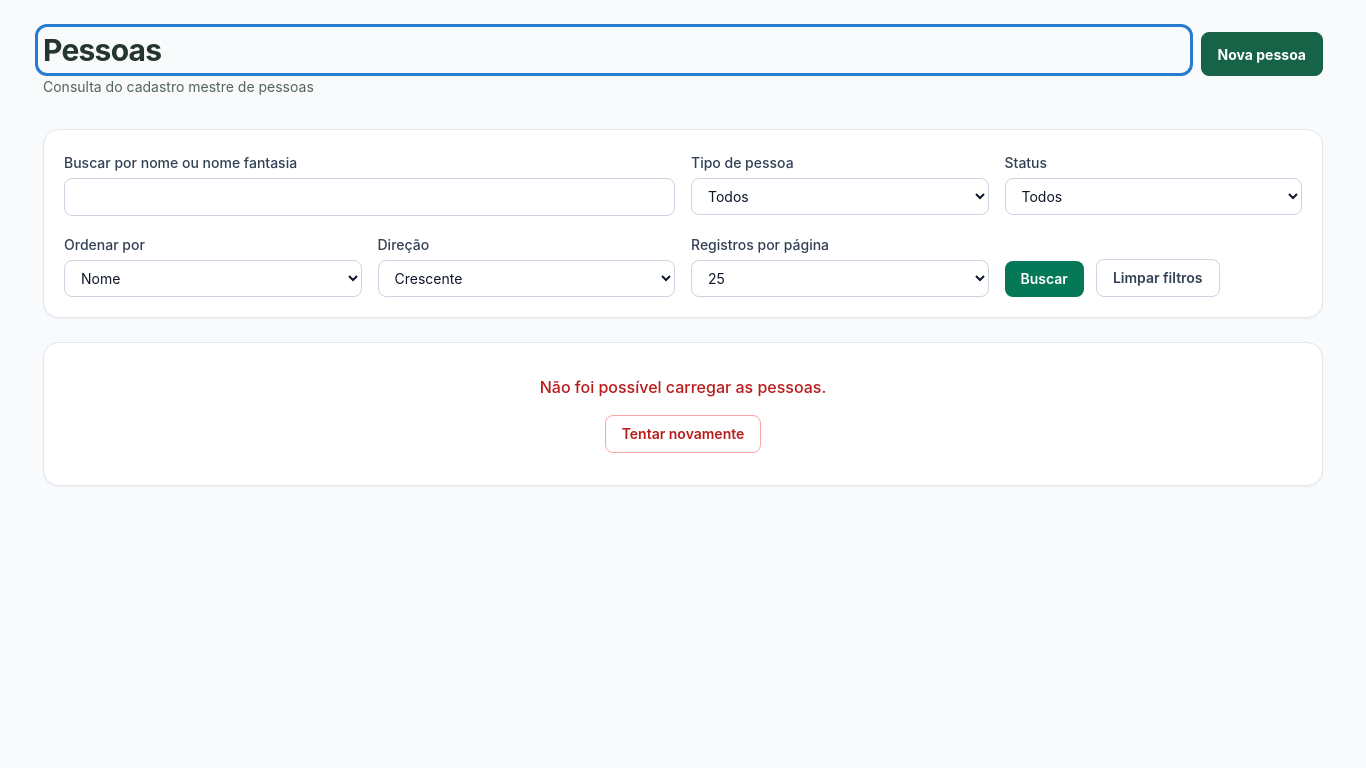
Scenario: PeopleListPage › mostra erro genérico e permite tentar novamente
Expected: the message shows "Não foi possível carregar as pessoas.", [540,377,826,397]
Click the button "Tentar novamente": [683, 434] box [605,415,761,453]
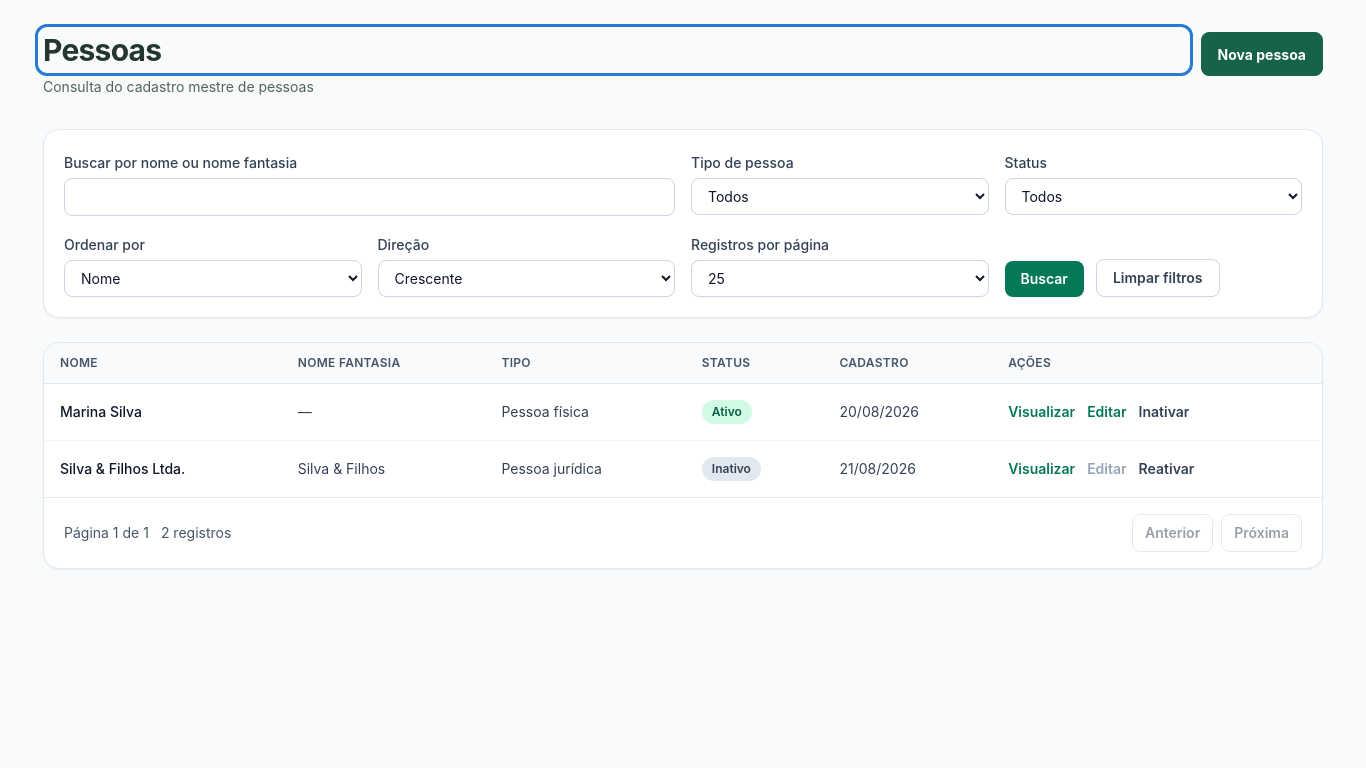
Result: the text "Marina Silva" is shown at [44,384,282,440]
